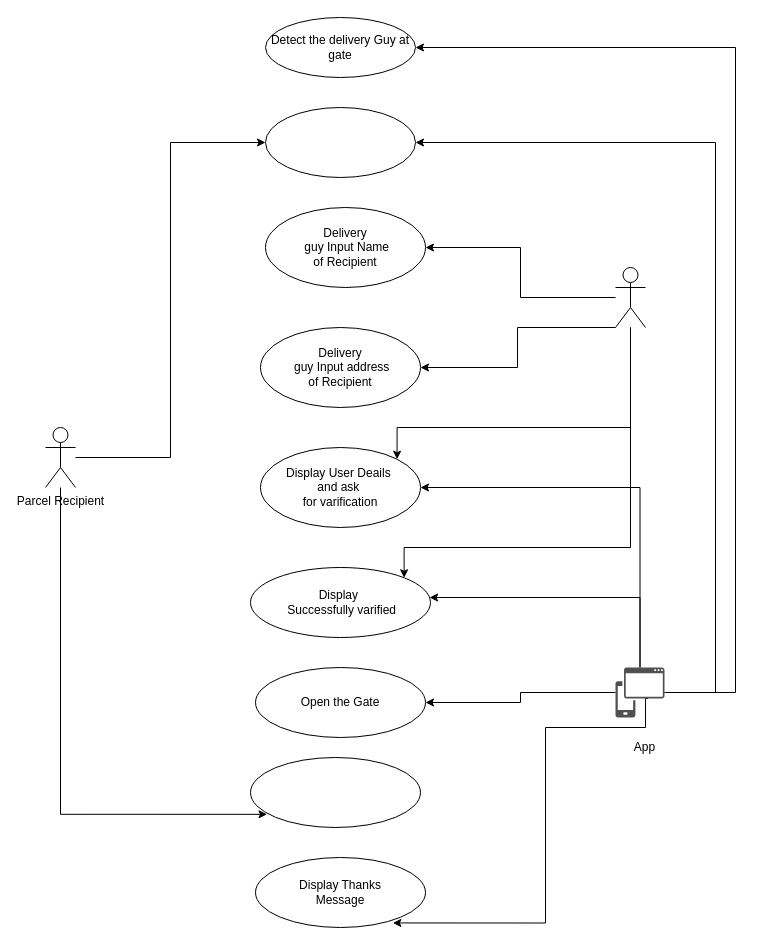
Some shapes in this 761 by 949 pixel diagram are drawn without their labels. The shapes that lost their labels are listed below. From the top down, each one's box as (x1, y1, x2, y2) in pixels, then its label:
(264, 106, 416, 178): Alert will be given to the parcel recipient
(614, 266, 646, 328): delivery Guy
(250, 756, 420, 828): Accept Parcel
